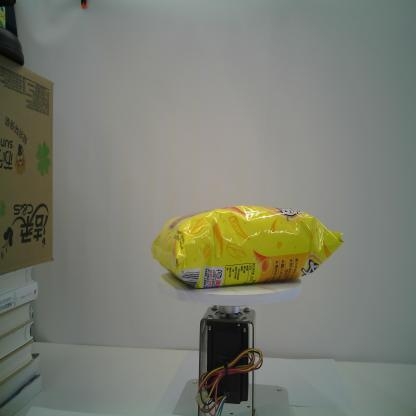Puffed Food: (149, 203, 345, 292)
